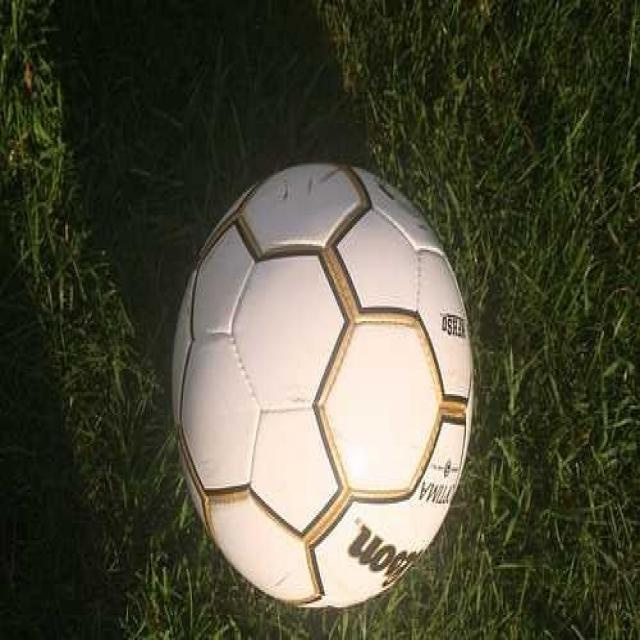ball: (171, 162, 475, 607)
